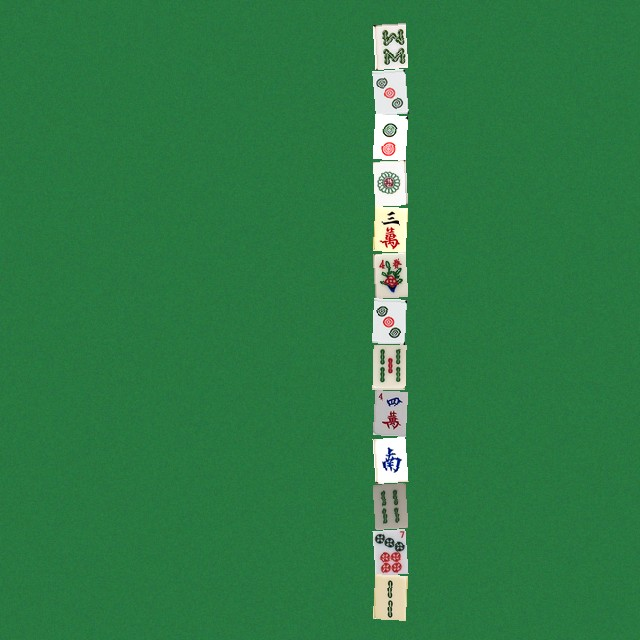tile: (372, 22, 405, 67), (372, 68, 405, 113), (372, 114, 405, 159), (372, 160, 405, 205), (372, 206, 405, 251), (372, 252, 405, 297), (372, 298, 405, 343), (372, 344, 405, 389), (372, 390, 405, 435), (372, 436, 405, 481), (372, 482, 405, 527), (372, 528, 405, 573), (372, 574, 405, 619)
